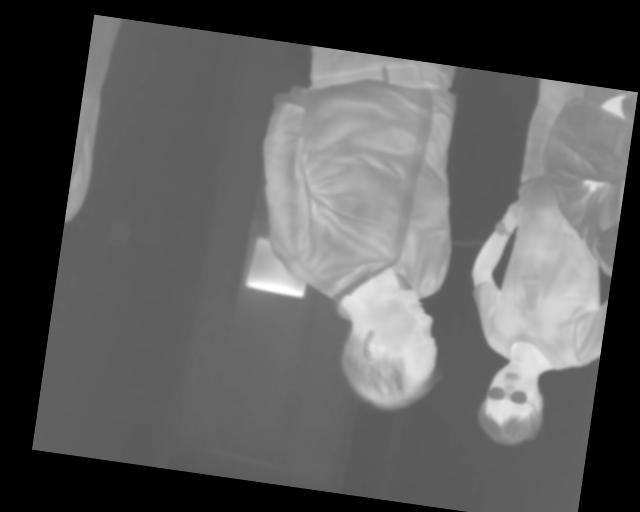face: (334, 281, 452, 418), (472, 359, 551, 451)
